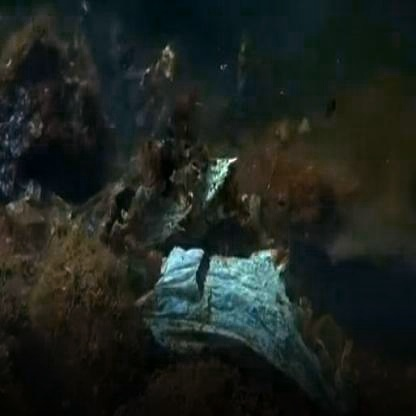plastic: (151, 221, 327, 372)
